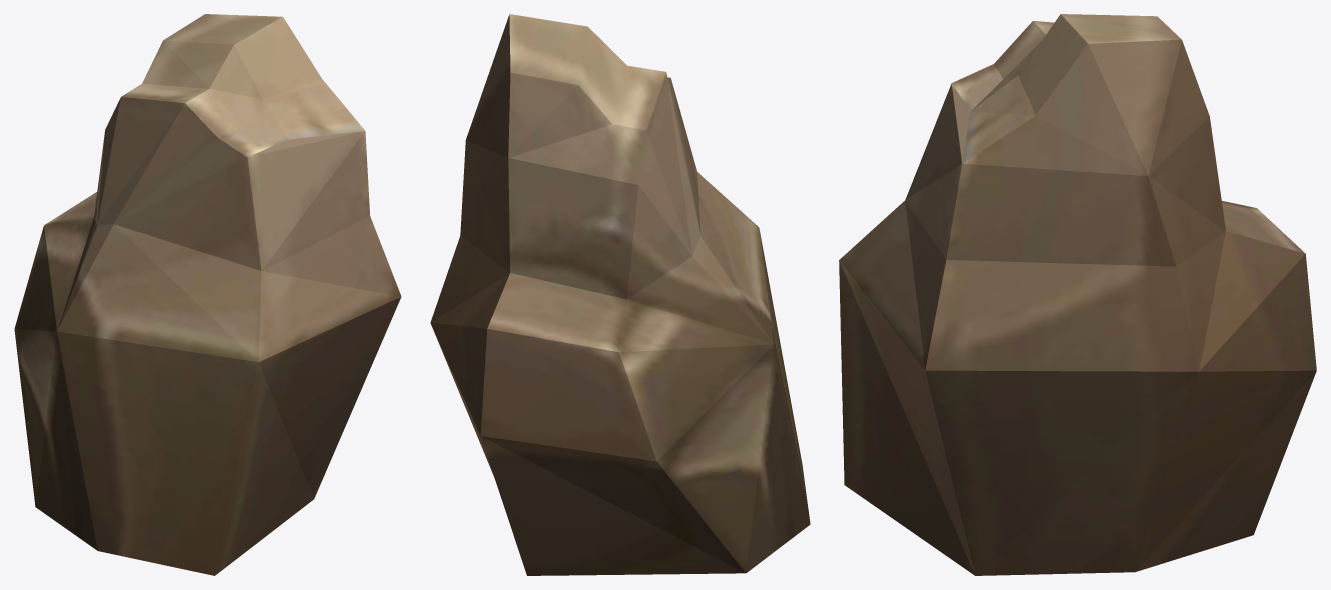
File: caodi_shitou_02.fbx
3 renders of one model, left to right at view 1: azimuth 30°, elevation 25°; view 2: azimuth 150°, elevation 25°; view 3: azimuth 270°, elevation 25°, orthographic. The views are drawn at different scales.
Visible parts, largest first — view 1: caodi_shitou_02; view 2: caodi_shitou_02; view 3: caodi_shitou_02.
Part boxes in pixels (x1,y1,x2,y2): caodi_shitou_02: (14,14,401,575); caodi_shitou_02: (430,14,810,575); caodi_shitou_02: (839,14,1316,575).
Bounding box in the file's own units: 5.21 × 7.76 × 6.2.
